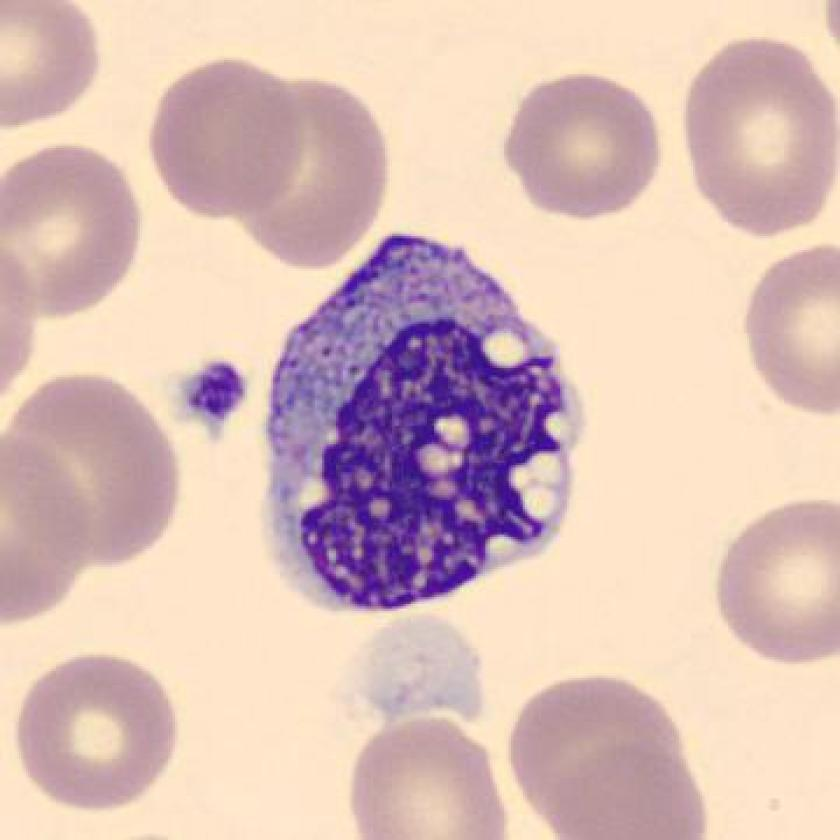monocyte: (241, 216, 608, 635)
